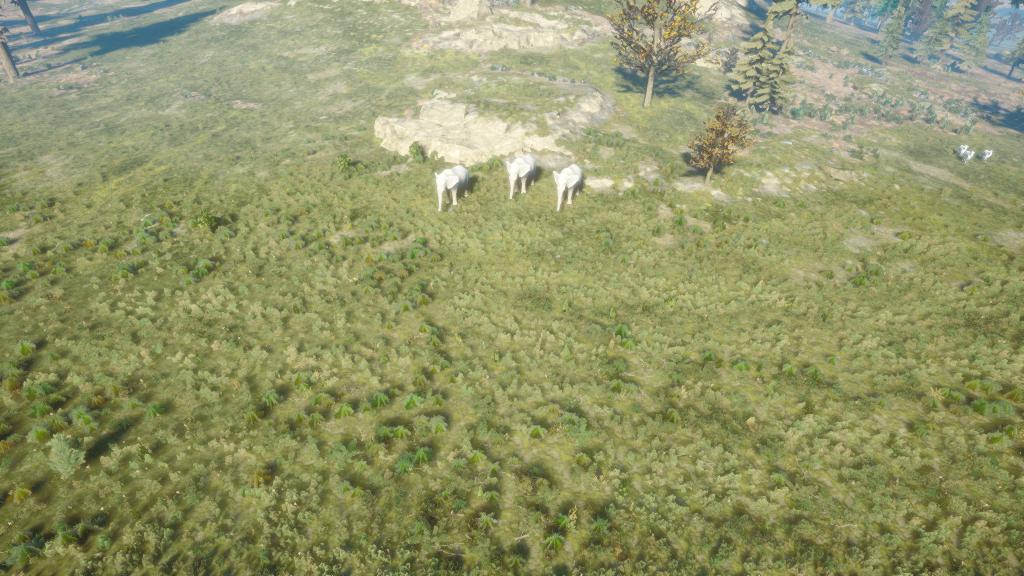elephant: (546, 146, 597, 214), (491, 148, 543, 200), (428, 163, 477, 212)
